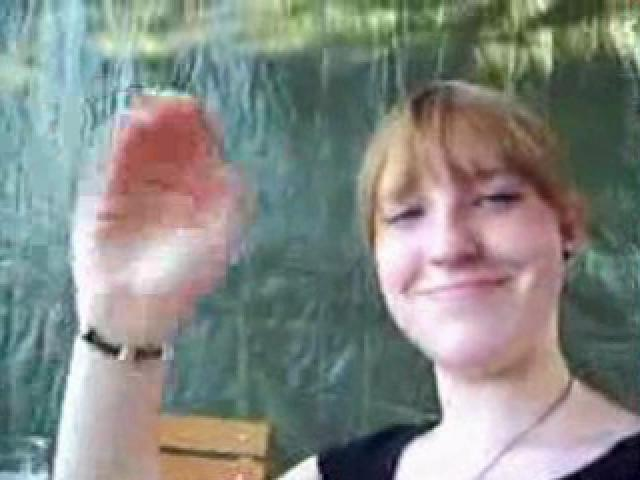T: (42, 79, 640, 474)
